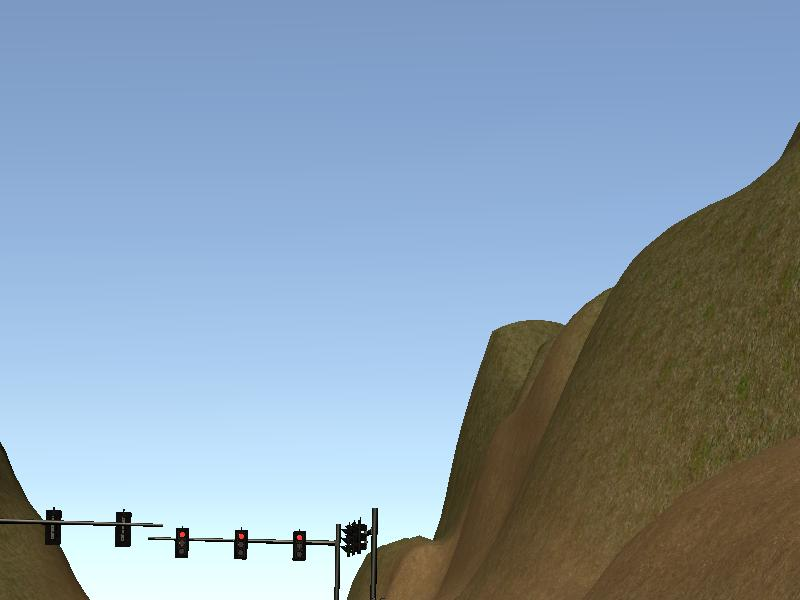Red: (234, 530, 249, 559), (175, 527, 189, 558), (293, 531, 305, 562)
